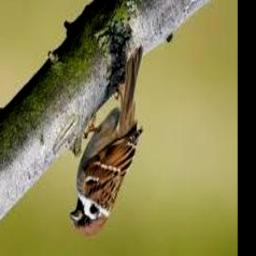Sparrow: (70, 47, 143, 235)
